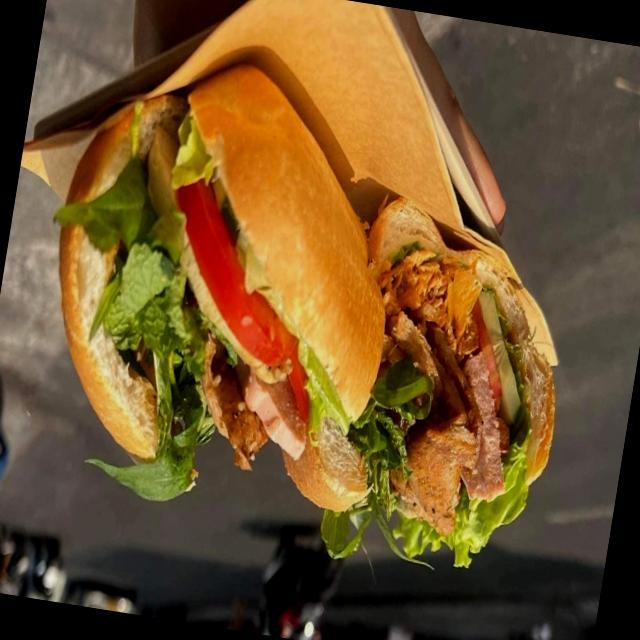banh mi: (53, 62, 385, 500), (282, 197, 555, 565)
